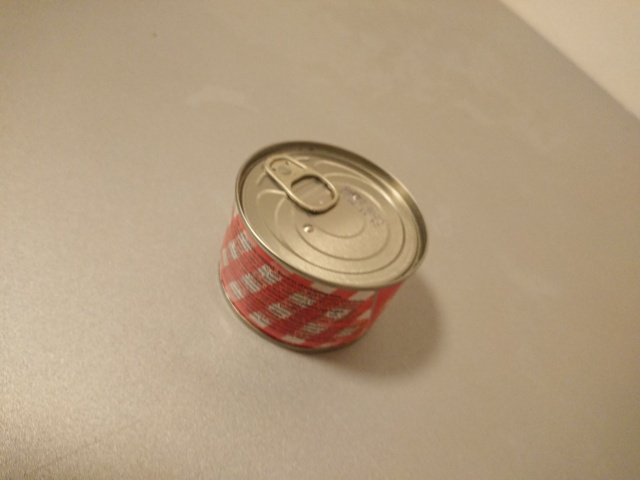Podravka Luncheon Meat 150g: (215, 135, 430, 358)
